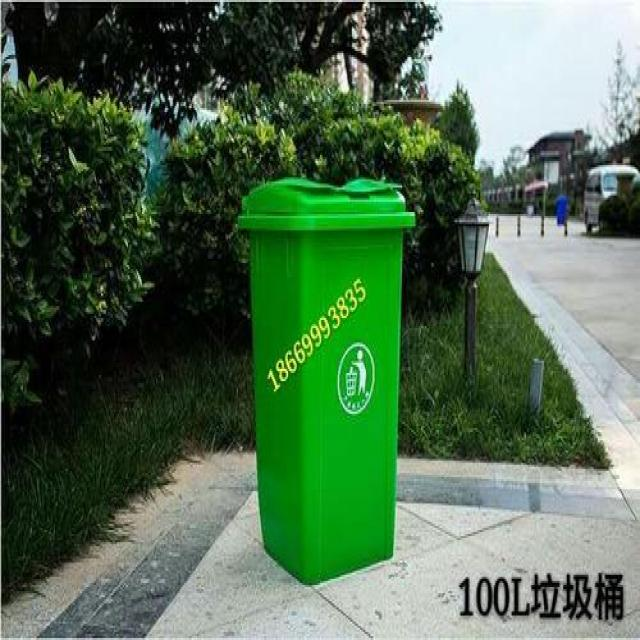garbage_bin: (238, 179, 414, 585)
